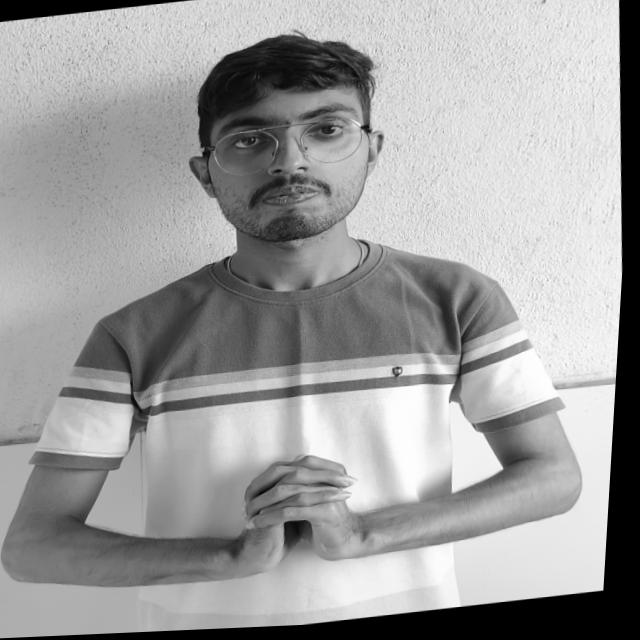Sorry: (205, 430, 408, 604)
